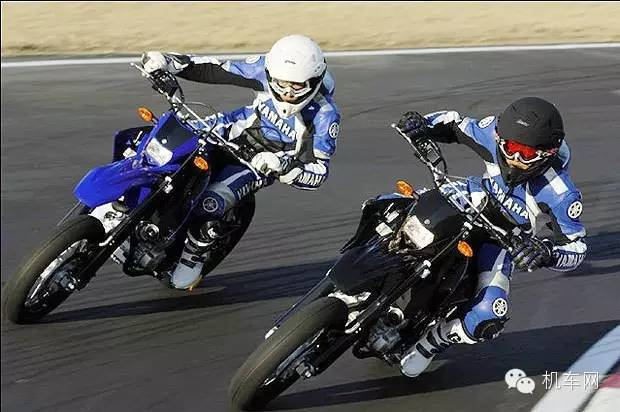helmet: (495, 98, 574, 186), (265, 40, 327, 109)
